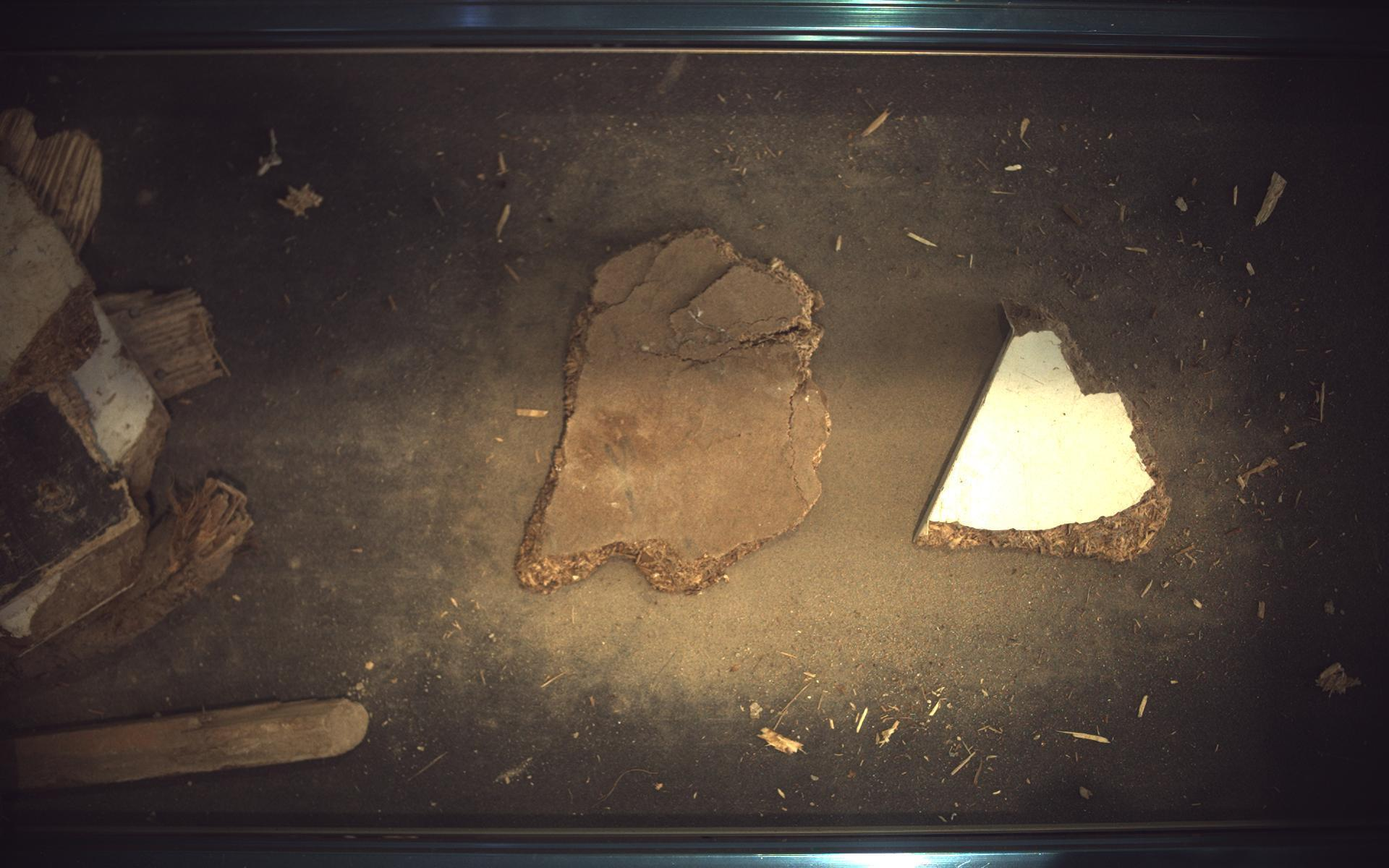wood: (516, 228, 832, 593), (919, 306, 1173, 562), (1, 107, 101, 252)
